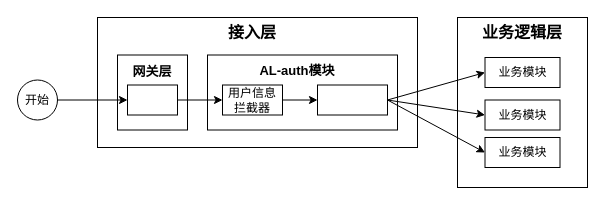
The diagram is 605 pixels wide and 205 high, and some of its shapes have lost their labels. The shapes that lost their labels are listed below. From the top down, each one's box as (x1, y1, x2, y2) in pixels, then its label:
(126, 84, 178, 115): 过滤器
(316, 84, 388, 115): 登录权限拦截器
